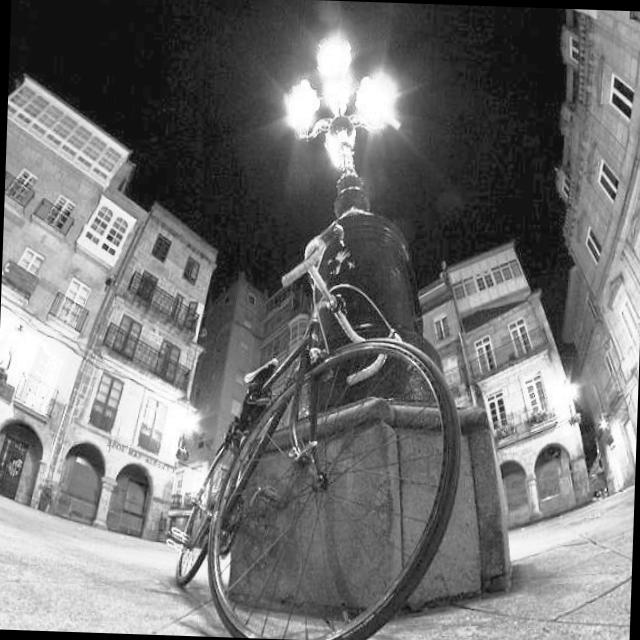Bicycle: (162, 179, 429, 640)
